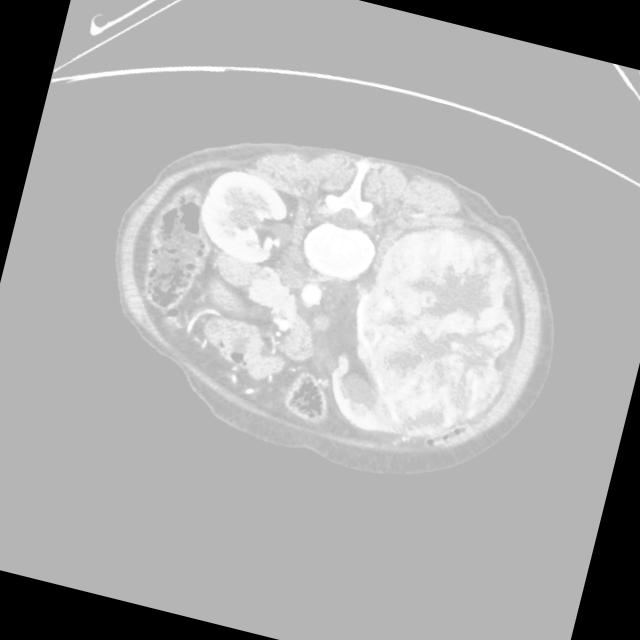TUMOR: (97, 146, 438, 465)
